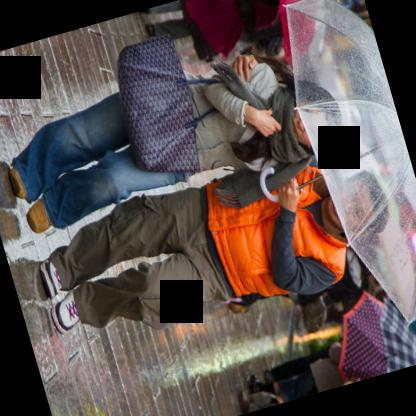handbag: (114, 36, 216, 170)
